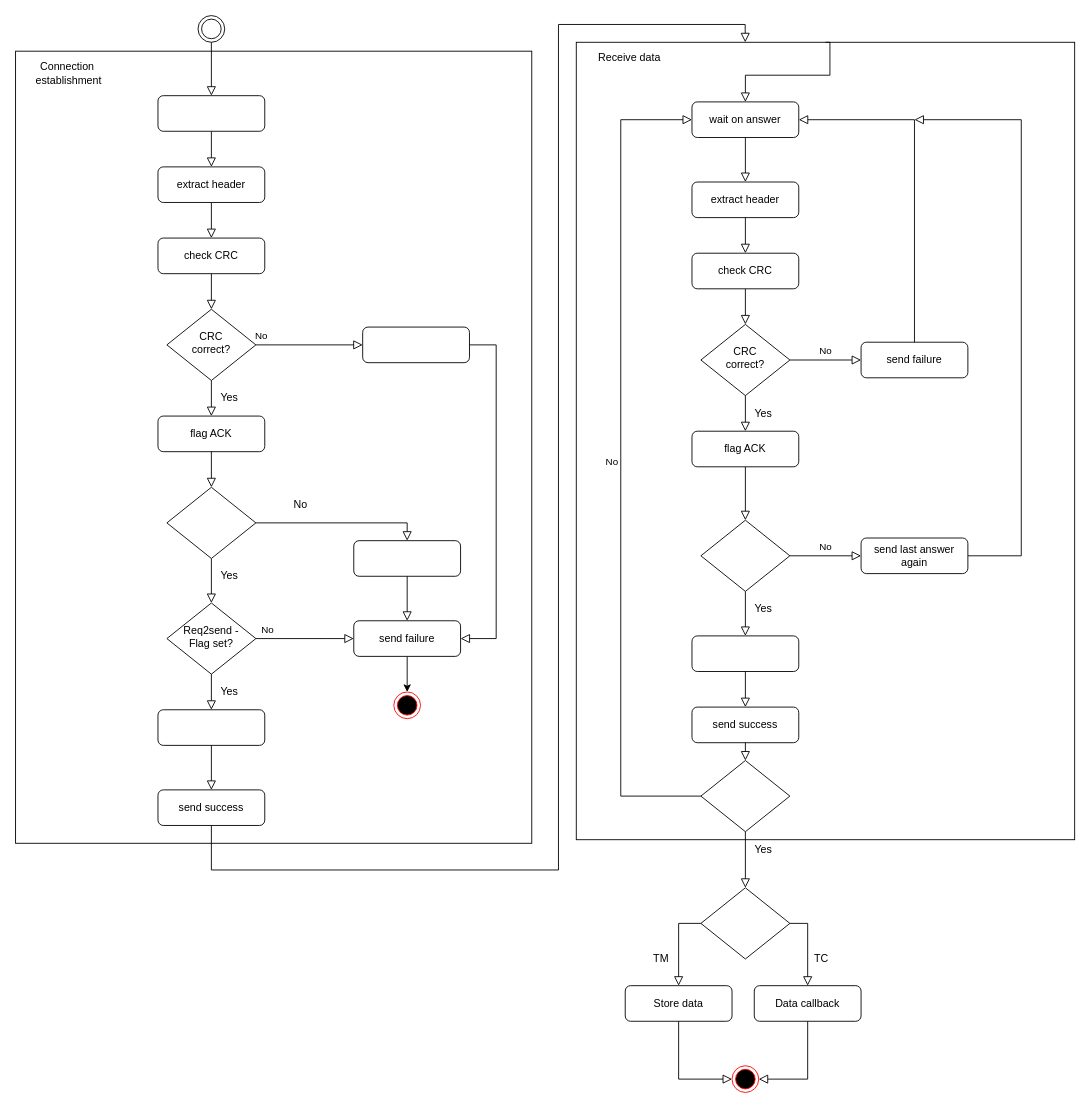
This 1090x1108 diagram has some shape labels left out. The shapes that lost their labels are listed below. From the top down, each one's centre as x and y in pixels, then its label:
(x=211, y=113): receive request
(x=415, y=344): Unset all Frags
(x=211, y=522): ID known?
(x=407, y=558): Set "ID unknown"-Flag
(x=745, y=555): ACK Flag set?
(x=745, y=653): add receiced data to buffer
(x=211, y=727): Flag Rdy2Rcv
(x=745, y=796): END Flag set?
(x=745, y=923): ID type
